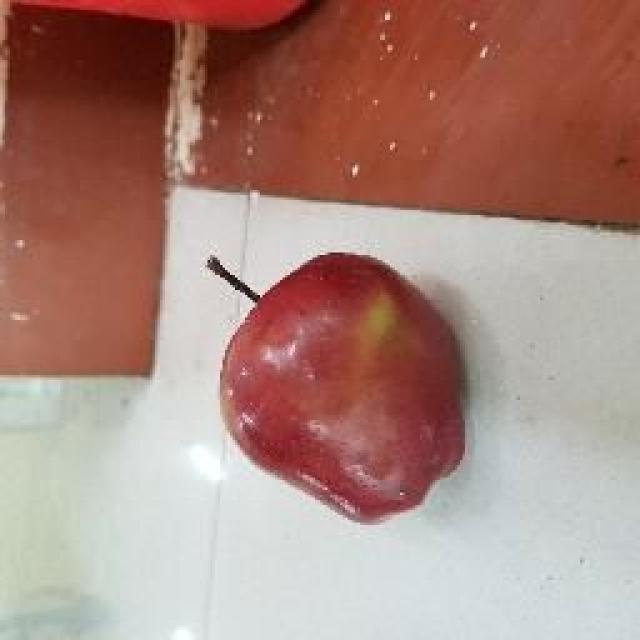Good_Apple: (218, 252, 470, 528)
